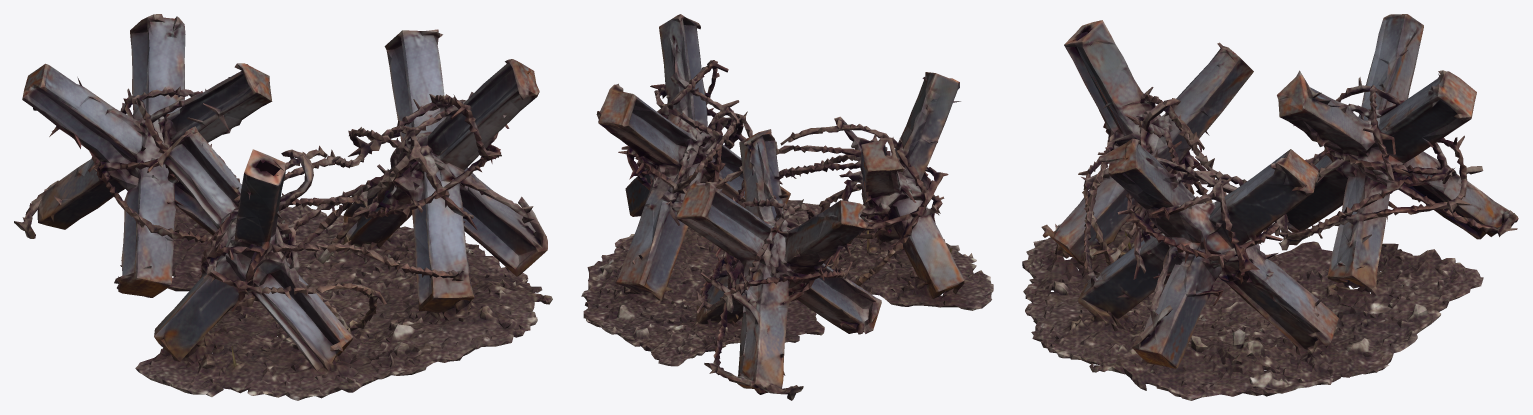
Rendered from k_hedgehogs.obj.
3 renders of one model, left to right at view 1: azimuth 30°, elevation 25°; view 2: azimuth 150°, elevation 25°; view 3: azimuth 270°, elevation 25°, orthographic. The views are drawn at different scales.
Parts seen in each view (by area): view 1: k_hedgehogs; view 2: k_hedgehogs; view 3: k_hedgehogs.
Boxes of the visible parts, bbox=[...] form: k_hedgehogs: bbox=[14, 14, 552, 400]; k_hedgehogs: bbox=[581, 14, 993, 400]; k_hedgehogs: bbox=[1022, 14, 1518, 400].
Size of the model in its own units: 3.68 by 2.17 by 4.
1 material, 1 textured.
